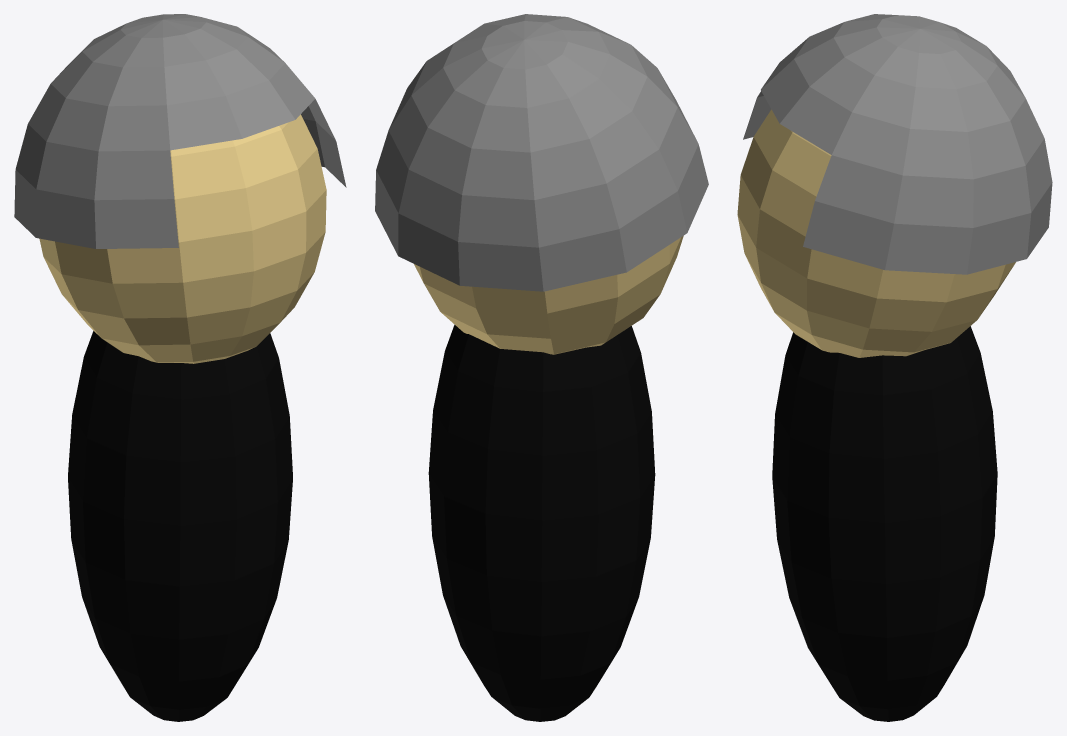
File: aunt.fbx
The picture shows the model from 3 angles, left to right: view 1: azimuth 30°, elevation 25°; view 2: azimuth 150°, elevation 25°; view 3: azimuth 270°, elevation 25°; orthographic projection.
Visible parts, largest first — view 1: Sphere.001, Sphere.002, Sphere; view 2: Sphere.001, Sphere.002, Sphere; view 3: Sphere.001, Sphere.002, Sphere.
Boxes of the visible parts, x1,y1,x2,y2 form: Sphere.001: [68, 331, 292, 721]; Sphere.002: [14, 14, 346, 248]; Sphere: [39, 114, 326, 363]; Sphere.001: [428, 324, 655, 721]; Sphere.002: [375, 14, 708, 291]; Sphere: [414, 236, 683, 354]; Sphere.001: [772, 326, 997, 721]; Sphere.002: [743, 14, 1052, 274]; Sphere: [737, 109, 1015, 357].
Bounding box in the file's own units: 259 × 588 × 243.
